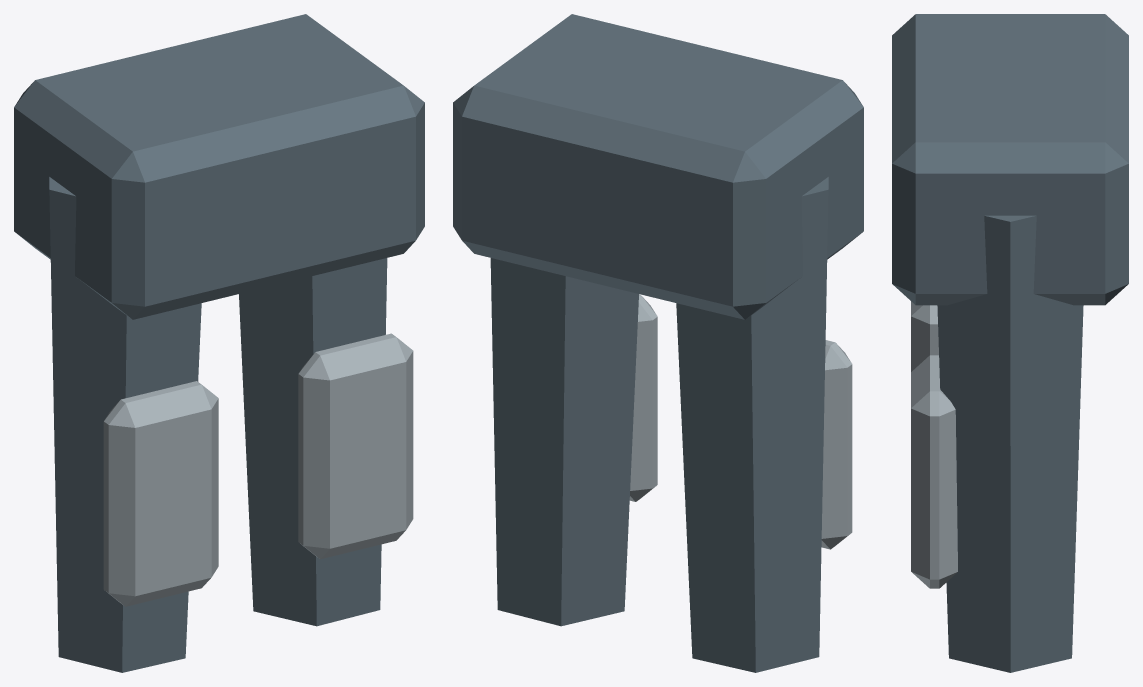
File: SM_NPC_Legs_01_Guard.glb
3 views of the same model, side by side, from view 1: azimuth 30°, elevation 25°; view 2: azimuth 150°, elevation 25°; view 3: azimuth 270°, elevation 25° (orthographic). The views are drawn at different scales.
Parts seen in each view (by area): view 1: SM_NPC_Legs_01_Guard; view 2: SM_NPC_Legs_01_Guard; view 3: SM_NPC_Legs_01_Guard.
Boxes of the visible parts, x1,y1,x2,y2 form: SM_NPC_Legs_01_Guard: [14, 14, 424, 672]; SM_NPC_Legs_01_Guard: [453, 14, 863, 672]; SM_NPC_Legs_01_Guard: [892, 14, 1128, 672].
Bounding box in the file's own units: 0.402 × 0.606 × 0.25.
